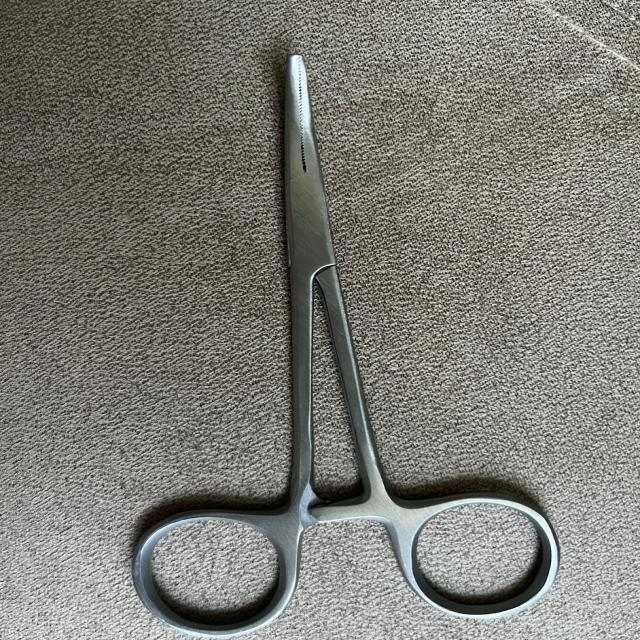Gunting: (118, 38, 568, 639)
